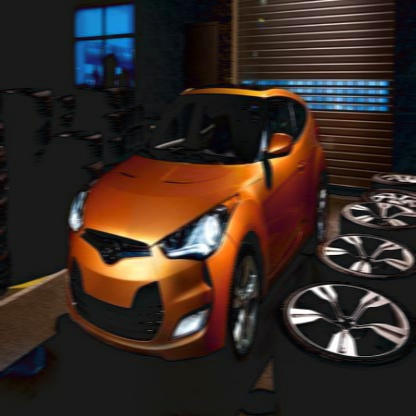Vehicle: (58, 63, 336, 384)
